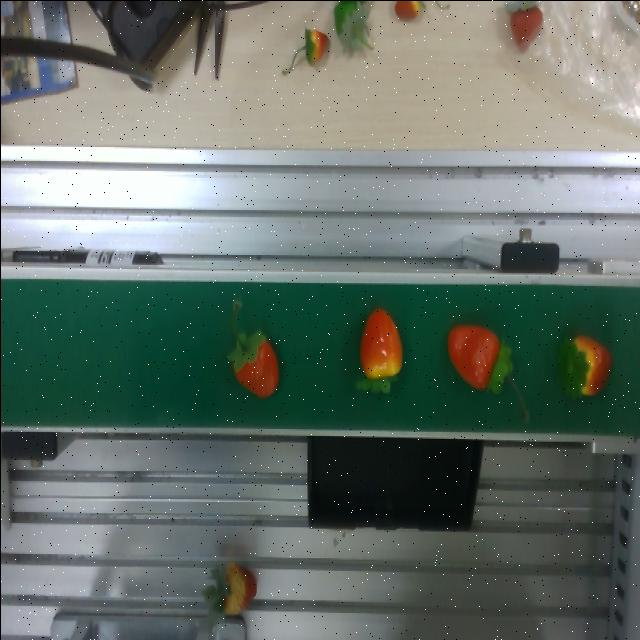Small Ripe Strawberry: (442, 322, 518, 408), (215, 327, 287, 403)
Small Unripe Strawberry: (557, 320, 619, 408), (357, 307, 407, 397)
conveyor: (0, 265, 640, 445)
